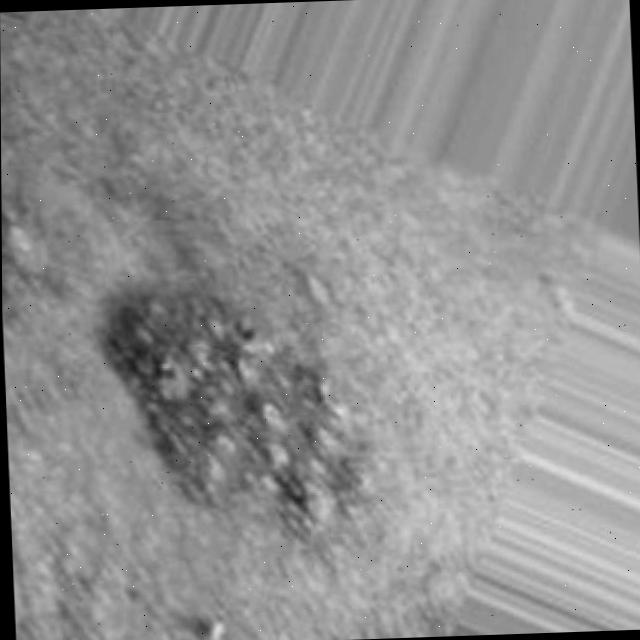Shingles: (100, 276, 343, 498)
